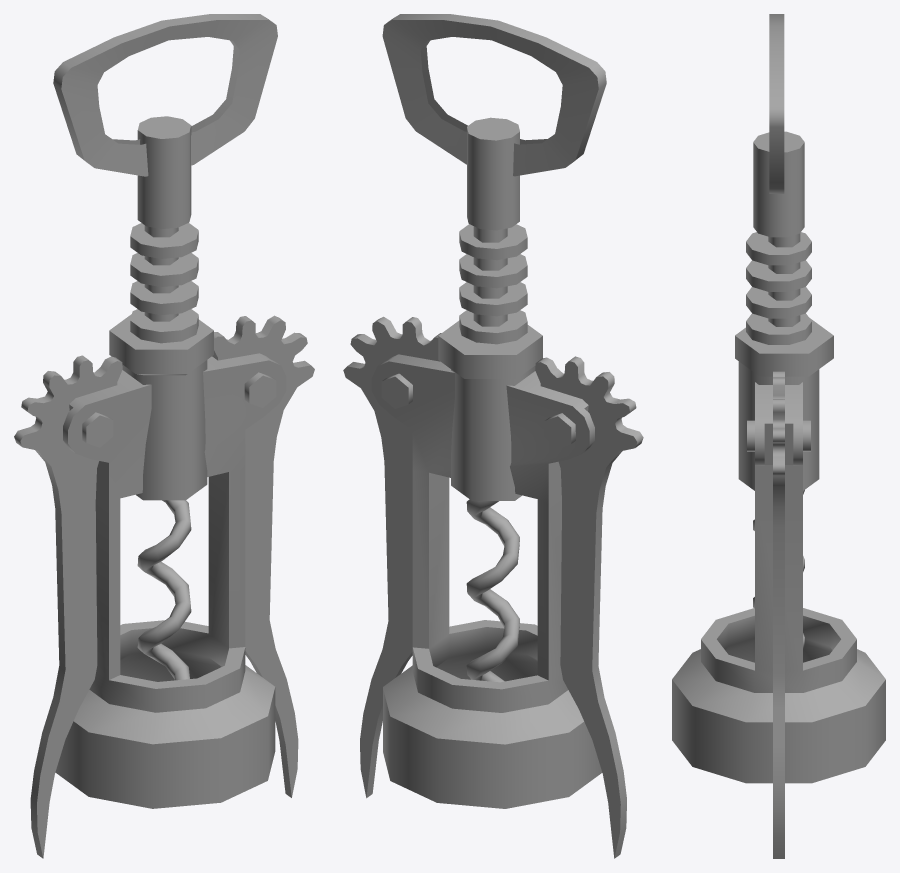
File: Corkscrew_01.fbx
3 renders of one model, left to right at view 1: azimuth 30°, elevation 25°; view 2: azimuth 150°, elevation 25°; view 3: azimuth 270°, elevation 25°, orthographic. The views are drawn at different scales.
Parts seen in each view (by area): view 1: Corkscrew_01, Corkscrew_01_Spiral, Corkscrew_01_L, Corkscrew_01_R; view 2: Corkscrew_01, Corkscrew_01_Spiral, Corkscrew_01_L, Corkscrew_01_R; view 3: Corkscrew_01, Corkscrew_01_Spiral, Corkscrew_01_R.
Part boxes in pixels (bbox=[...]): Corkscrew_01: bbox=[55, 314, 286, 808]; Corkscrew_01_Spiral: bbox=[53, 14, 277, 680]; Corkscrew_01_L: bbox=[14, 355, 122, 858]; Corkscrew_01_R: bbox=[212, 315, 314, 797]; Corkscrew_01: bbox=[371, 320, 602, 808]; Corkscrew_01_Spiral: bbox=[382, 14, 606, 682]; Corkscrew_01_L: bbox=[535, 356, 643, 858]; Corkscrew_01_R: bbox=[343, 316, 441, 798]; Corkscrew_01: bbox=[672, 317, 885, 783]; Corkscrew_01_Spiral: bbox=[746, 14, 811, 649]; Corkscrew_01_R: bbox=[773, 371, 784, 858].
Bounding box in the file's own units: 0.0948 × 0.2471 × 0.0631.
